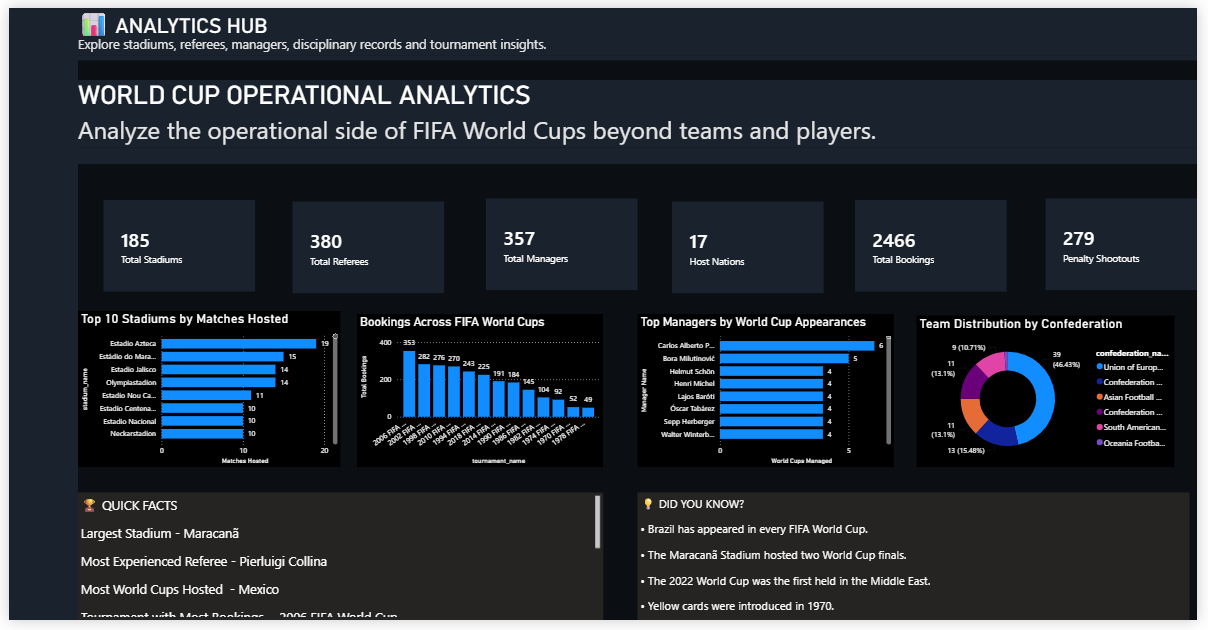

Layout of this report page (visuals, bound fields, positions):
{"tool":"powerbi","page":{"name":"ANALYTICS HUB","canvas":[1980,1020],"ordinal":5},"visuals":[{"type":"shape","title":"📊 ANALYTICS HUB","box":[115,0,1865,87.5],"z":0},{"type":"shape","box":[0,0,115,1020],"z":1000},{"type":"shape","title":"WORLD CUP OPERATIONAL ANALYTICS","box":[115,120,1865,140],"z":2000},{"type":"cardVisual","fields":{"Data":["measures (2).Total Stadiums"]},"box":[157.5,320,252.5,152.5],"z":3000},{"type":"cardVisual","fields":{"Data":["measures (2).Total Referees"]},"box":[472.5,322.5,252.5,152.5],"z":4000},{"type":"cardVisual","fields":{"Data":["measures (2).Total Managers"]},"box":[795,317.5,252.5,152.5],"z":5000},{"type":"cardVisual","fields":{"Data":["measures (2).Host Nations"]},"box":[1105,322.5,252.5,152.5],"z":6000},{"type":"cardVisual","fields":{"Data":["measures (2).Total Bookings"]},"box":[1410,320,252.5,152.5],"z":7000},{"type":"cardVisual","fields":{"Data":["measures (2).Penalty Shootouts"]},"box":[1727.5,317.5,252.5,152.5],"z":8000},{"type":"barChart","title":"Top 10 Stadiums by Matches Hosted","fields":{"Category":["Dim_stadiums.stadium_name"],"Y":["measures (2).Matches Hosted"]},"box":[115,505,437.5,260],"z":9000},{"type":"clusteredColumnChart","title":"Bookings Across FIFA World Cups","fields":{"Category":["Dim_tournaments.tournament_name"],"Y":["measures (2).Total Bookings"]},"box":[580,510,410,255],"z":10000},{"type":"clusteredBarChart","title":"Top Managers by World Cup Appearances","fields":{"Category":["manager_appearances.Manager Name"],"Y":["measures (2).World Cups Managed"]},"box":[1047.5,510,427.5,255],"z":11000},{"type":"donutChart","title":"Team Distribution by Confederation","fields":{"Category":["confederations.confederation_name"],"Y":["Count(Dim_teams.team_id)"]},"box":[1512.5,512.5,430,252.5],"z":12000},{"type":"textbox","box":[1047.5,807.5,920,212.5],"z":13000},{"type":"textbox","box":[115,807.5,875,212.5],"z":14000}]}

Visuals, with their boxes in screenshot pixels (x1, y1, x2, y2), scaled from the page's 1980x1020 canvas onto the 1208x630 screenshot:
"📊 ANALYTICS HUB" shape: [x1=70, y1=0, x2=1207, y2=54]
shape: [x1=0, y1=0, x2=70, y2=629]
"WORLD CUP OPERATIONAL ANALYTICS" shape: [x1=70, y1=74, x2=1207, y2=161]
cardVisual - measures (2).Total Stadiums: [x1=96, y1=198, x2=250, y2=292]
cardVisual - measures (2).Total Referees: [x1=288, y1=199, x2=442, y2=293]
cardVisual - measures (2).Total Managers: [x1=485, y1=196, x2=639, y2=290]
cardVisual - measures (2).Host Nations: [x1=674, y1=199, x2=828, y2=293]
cardVisual - measures (2).Total Bookings: [x1=860, y1=198, x2=1014, y2=292]
cardVisual - measures (2).Penalty Shootouts: [x1=1054, y1=196, x2=1207, y2=290]
"Top 10 Stadiums by Matches Hosted" barChart: [x1=70, y1=312, x2=337, y2=472]
"Bookings Across FIFA World Cups" clusteredColumnChart: [x1=354, y1=315, x2=604, y2=472]
"Top Managers by World Cup Appearances" clusteredBarChart: [x1=639, y1=315, x2=900, y2=472]
"Team Distribution by Confederation" donutChart: [x1=923, y1=317, x2=1185, y2=472]
textbox: [x1=639, y1=499, x2=1200, y2=629]
textbox: [x1=70, y1=499, x2=604, y2=629]
